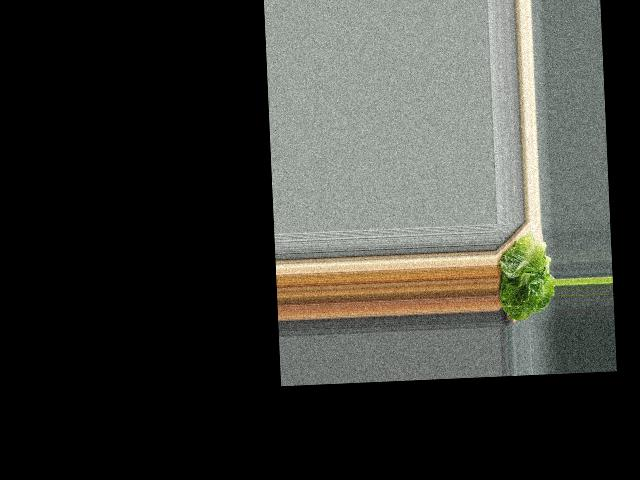lettuce: (494, 234, 556, 323)
